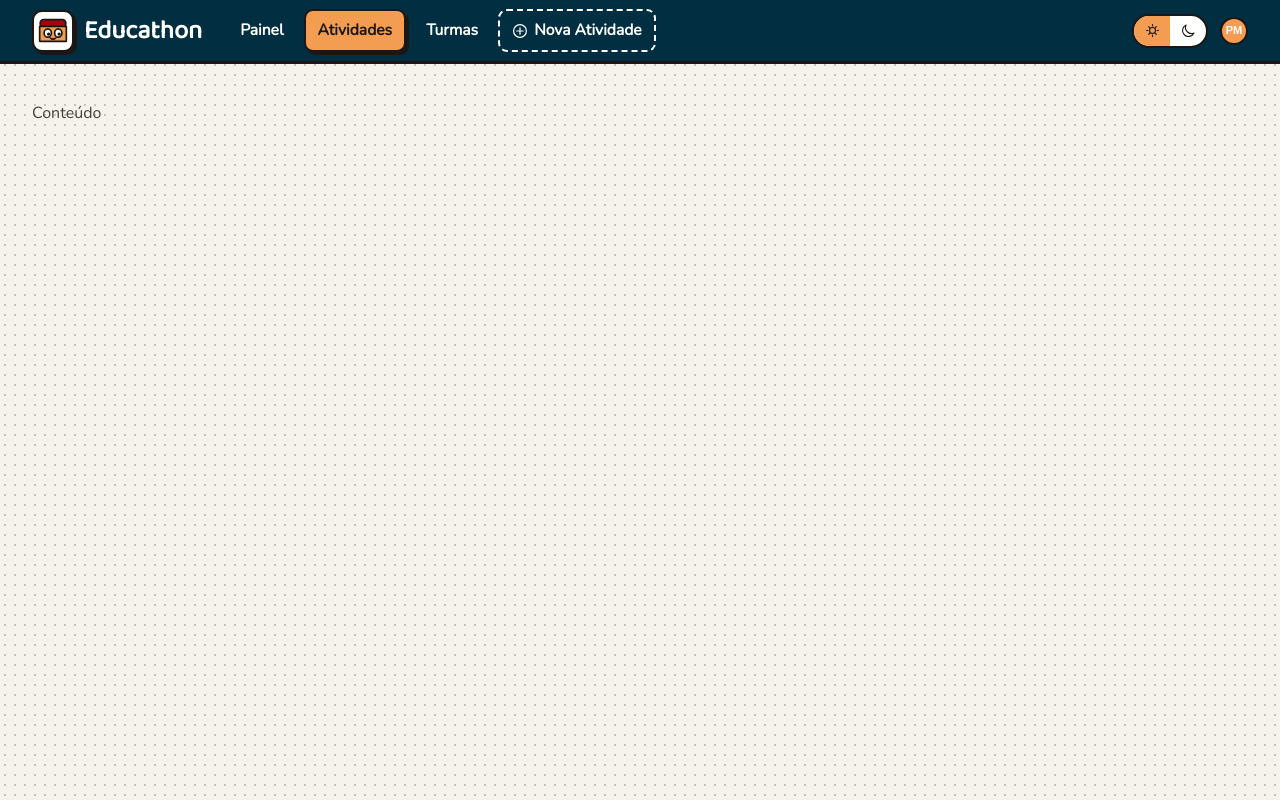
AppLayout › abre o menu do usuário ao clicar no botão de perfil
What coordinates should you click on to do the following:
click the button with aria-label "Menu do professor"
I would click on:
 (1234, 30)
Its box is [1220,16,1248,44].
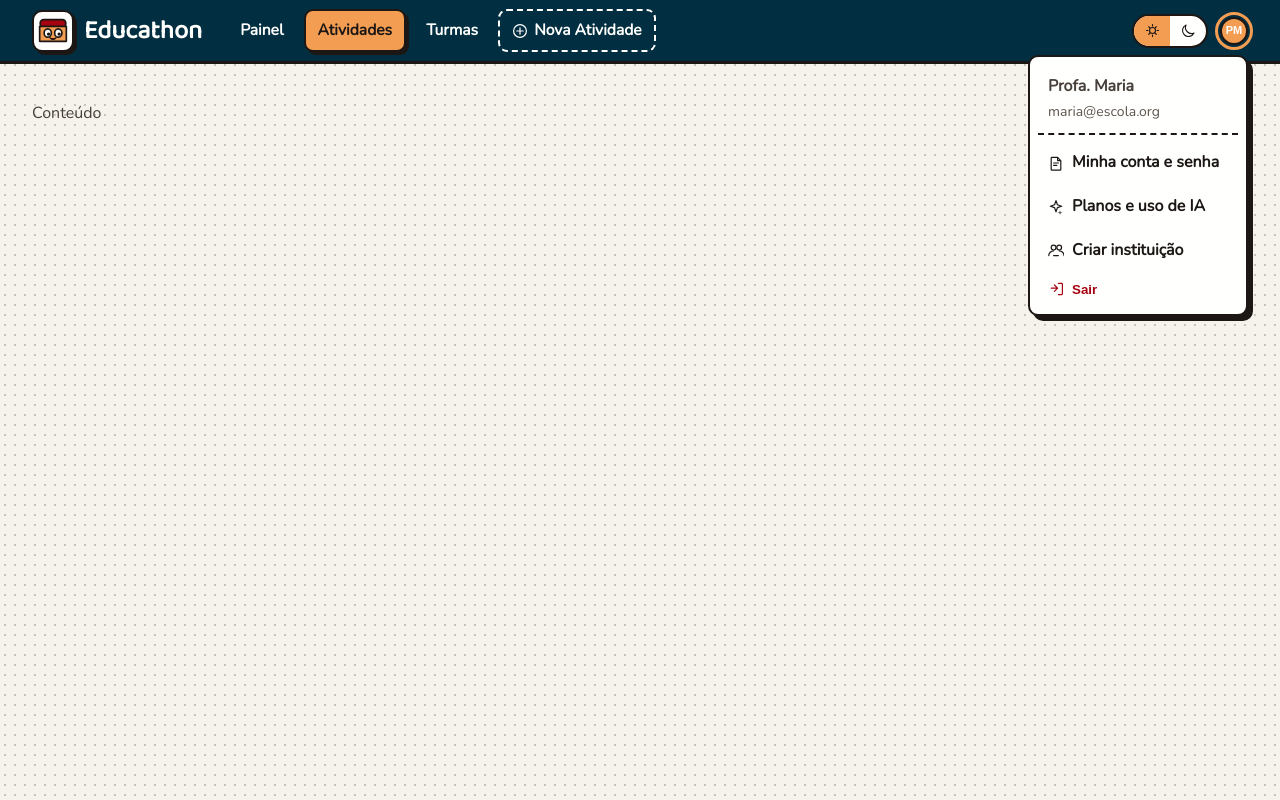
Result: the menu item "Sair" is shown at [1038,272,1238,306]
